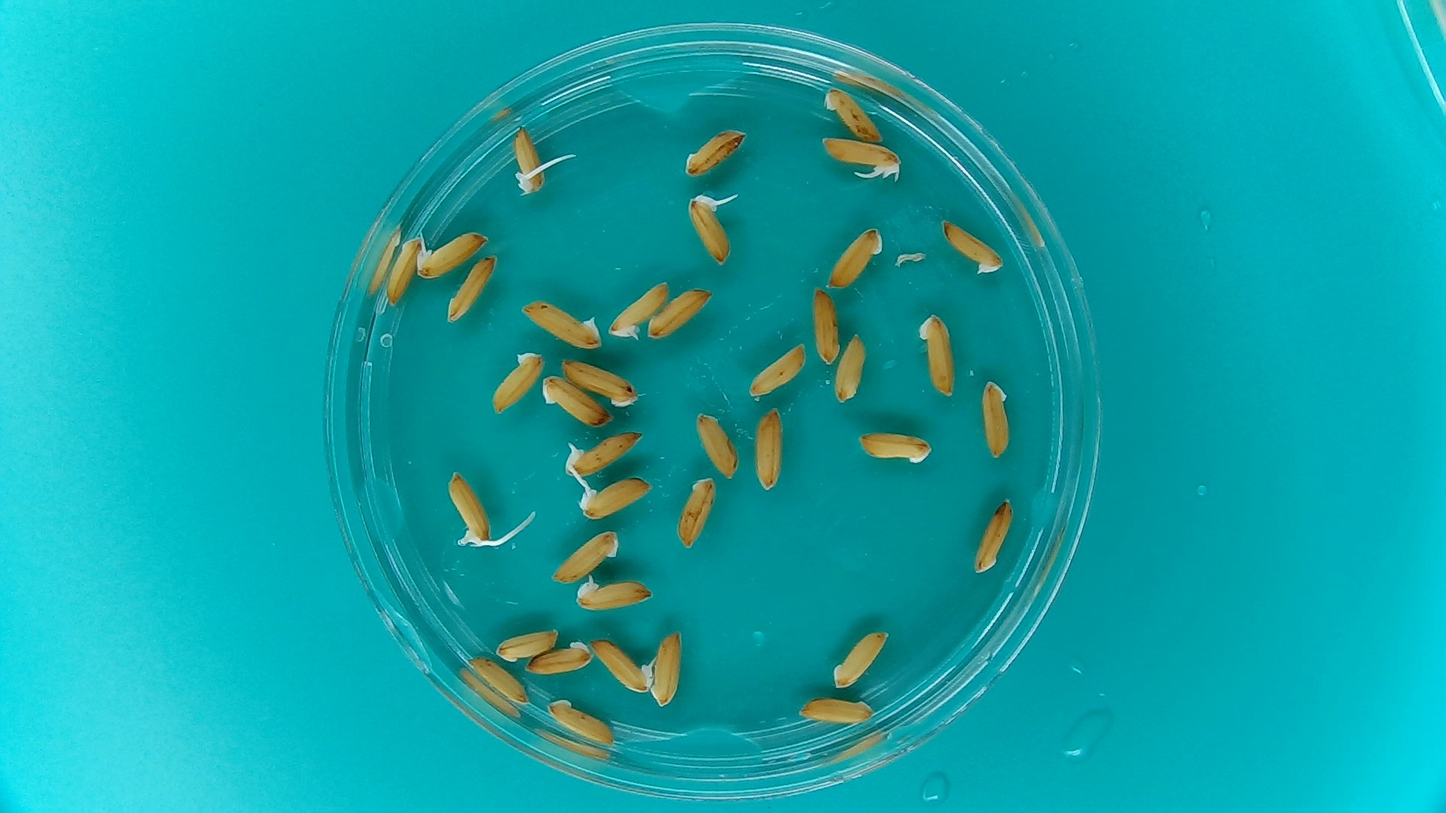no: (520, 299, 603, 351), (550, 528, 621, 585), (541, 375, 616, 428), (939, 216, 1005, 276), (560, 358, 639, 407), (445, 254, 499, 325), (825, 226, 883, 290), (647, 286, 714, 340), (822, 87, 885, 144), (832, 630, 891, 690), (747, 341, 808, 399), (972, 498, 1016, 576), (547, 697, 615, 747), (676, 477, 720, 552), (684, 128, 749, 178), (491, 352, 541, 416), (466, 657, 532, 705), (919, 313, 954, 397), (696, 412, 738, 480), (385, 236, 425, 307), (801, 693, 874, 731), (754, 405, 785, 494), (856, 430, 932, 465), (523, 640, 594, 676), (833, 331, 867, 406), (648, 632, 681, 708), (812, 285, 842, 367), (981, 379, 1011, 460), (496, 626, 560, 662)
yes: (447, 474, 502, 545), (575, 566, 657, 611), (564, 431, 644, 477), (416, 231, 489, 281), (589, 637, 654, 693), (819, 136, 901, 176), (581, 477, 653, 520), (612, 279, 669, 333), (687, 197, 730, 267), (511, 127, 547, 197)
